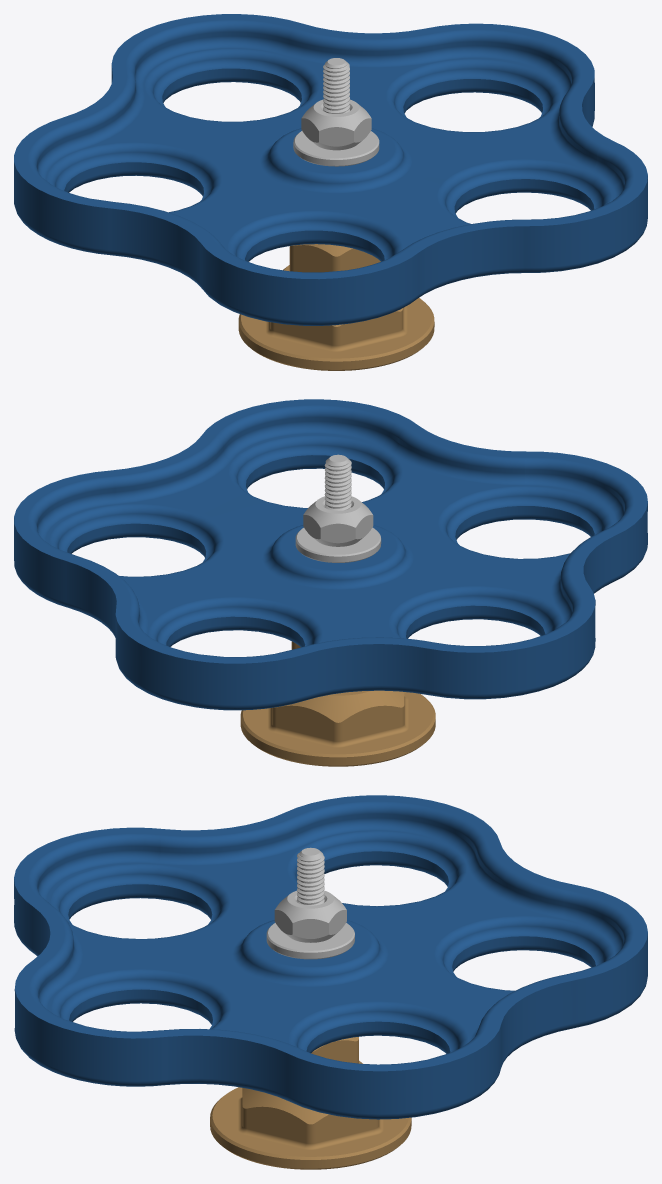
The model's file is detector.fbx.
3 renders of one model, top to bottom at view 1: azimuth 30°, elevation 25°; view 2: azimuth 150°, elevation 25°; view 3: azimuth 270°, elevation 25°, orthographic. The views are drawn at different scales.
Parts seen in each view (by area): view 1: Body6, Body3, Body7, Body4, Body8, Body5; view 2: Body6, Body3, Body7, Body8, Body5; view 3: Body6, Body3, Body7, Body8, Body5, Body4.
Boxes of the visible parts, x1,y1,x2,y2 form: Body6: (14,14,647,325); Body3: (238,265,434,370); Body7: (301,99,371,150); Body4: (289,244,380,272); Body8: (293,131,379,166); Body5: (323,58,349,113); Body6: (14,399,647,710); Body3: (240,690,435,766); Body7: (303,496,373,546); Body8: (295,527,381,562); Body5: (324,454,351,510); Body6: (14,795,647,1119); Body3: (210,1060,411,1169); Body7: (274,890,346,942); Body8: (266,923,354,959); Body5: (297,847,324,905); Body4: (311,1037,358,1063).
Bounding box in the file's own units: 13.86 × 6.47 × 13.44.
